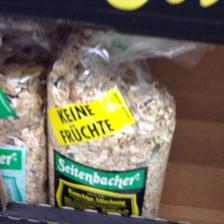Cerealien: (44, 38, 176, 214)
